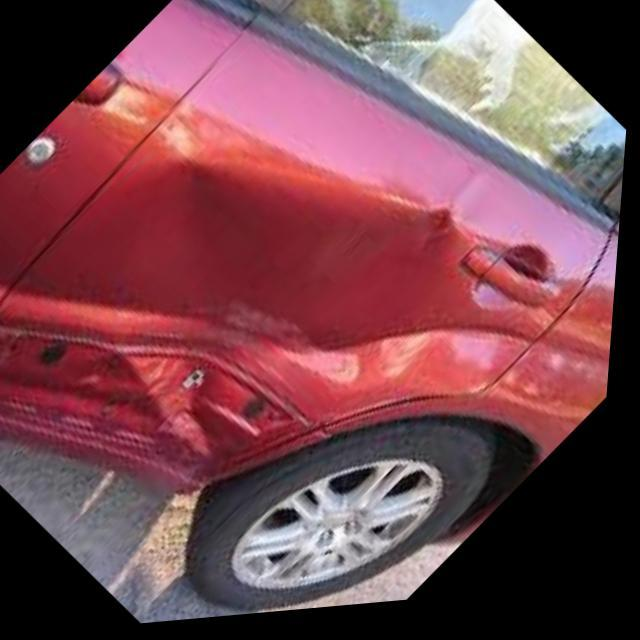dent: (0, 151, 545, 495)
